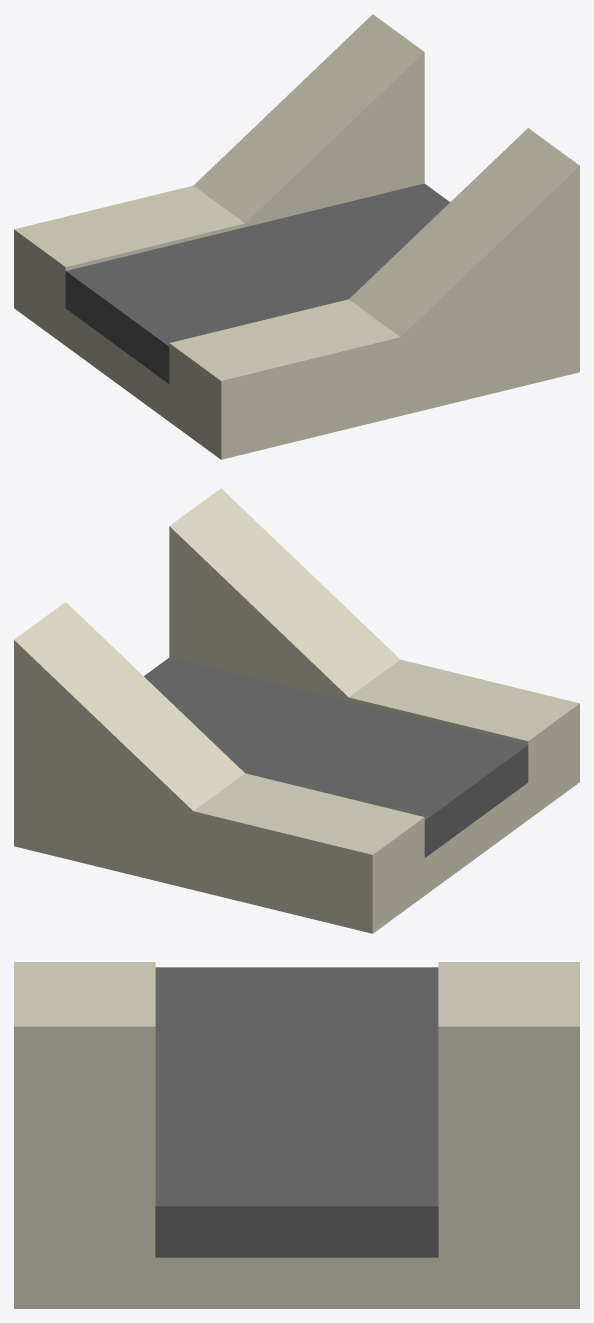
File: tile291.fbx
3 views of the same model, one above another, from view 1: azimuth 30°, elevation 25°; view 2: azimuth 150°, elevation 25°; view 3: azimuth 270°, elevation 25° (orthographic). The views are drawn at different scales.
Parts seen in each view (by area): view 1: tile291; view 2: tile291; view 3: tile291.
Part boxes in pixels (x1,y1,x2,y2): tile291: (14, 14, 579, 459); tile291: (14, 488, 579, 933); tile291: (14, 962, 579, 1308).
Size of the model in its own units: 10 by 5.5 by 10.
